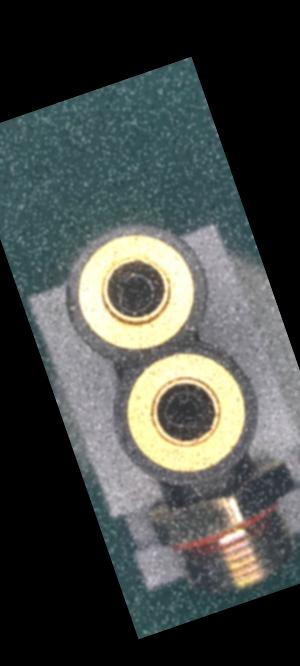bump: (54, 274, 93, 324), (228, 354, 249, 385)
off-centered: (107, 263, 165, 326), (152, 382, 212, 439)
